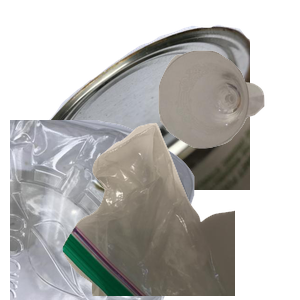glass: (156, 48, 300, 189)
metal: (19, 22, 259, 202)
plastic: (10, 120, 197, 300)
trash: (60, 120, 300, 300)
